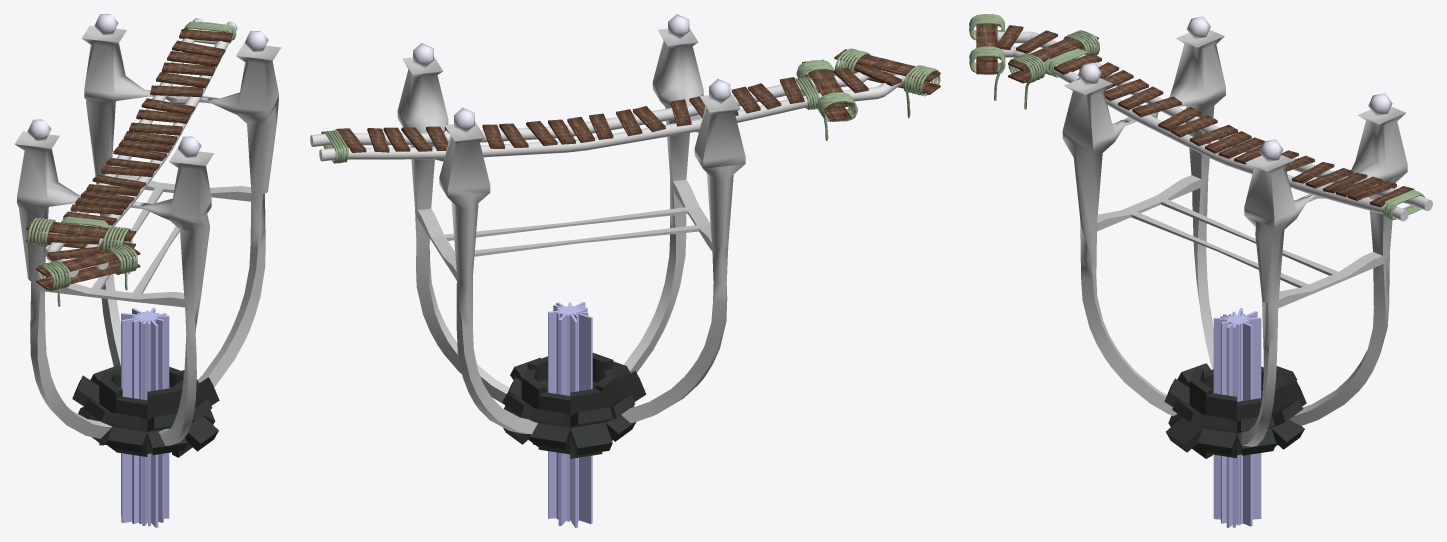
File: 1_bridge_right.fbx
3 renders of one model, left to right at view 1: azimuth 30°, elevation 25°; view 2: azimuth 150°, elevation 25°; view 3: azimuth 270°, elevation 25°, orthographic. The views are drawn at different scales.
Parts seen in each view (by area): view 1: 1_right_base, gravityring, 1_right_La, 1_right_verschlag, 1_right_La_c, 1_right_verschlag_ropes, 1_right_verschlag02, 1_right_verschlag02_ropes, 1_right_La_ropes; view 2: 1_right_base, gravityring, 1_right_La, 1_right_La_c, 1_right_verschlag_ropes, 1_right_verschlag, 1_right_verschlag02_ropes, 1_right_verschlag02, 1_right_La_ropes; view 3: 1_right_base, gravityring, 1_right_La, 1_right_La_c, 1_right_verschlag02_ropes, 1_right_verschlag_ropes, 1_right_La_ropes, 1_right_verschlag02, 1_right_verschlag.
Part boxes in pixels (box(x1,y1,x2,y2)): 1_right_base: box(14, 14, 281, 445); gravityring: box(72, 307, 219, 527); 1_right_La: box(63, 18, 237, 240); 1_right_verschlag: box(36, 245, 140, 289); 1_right_La_c: box(45, 233, 108, 276); 1_right_verschlag_ropes: box(38, 244, 137, 306); 1_right_verschlag02: box(26, 219, 135, 250); 1_right_verschlag02_ropes: box(27, 217, 132, 274); 1_right_La_ropes: box(61, 21, 236, 239); 1_right_base: box(397, 14, 745, 434); gravityring: box(502, 302, 646, 527); 1_right_La: box(310, 77, 821, 161); 1_right_La_c: box(834, 63, 908, 101); 1_right_verschlag_ropes: box(835, 48, 940, 118); 1_right_verschlag: box(834, 49, 940, 94); 1_right_verschlag02_ropes: box(796, 60, 857, 140); 1_right_verschlag02: box(802, 59, 851, 121); 1_right_La_ropes: box(321, 76, 819, 163); 1_right_base: box(1062, 16, 1407, 446); gravityring: box(1164, 308, 1306, 527); 1_right_La: box(1039, 53, 1432, 221); 1_right_La_c: box(996, 25, 1057, 57); 1_right_verschlag02_ropes: box(1008, 30, 1099, 109); 1_right_verschlag_ropes: box(969, 14, 1005, 100); 1_right_La_ropes: box(1044, 48, 1424, 219); 1_right_verschlag02: box(1008, 36, 1098, 83); 1_right_verschlag: box(976, 23, 997, 74).
Size of the model in its own units: 108 by 113 by 108.
Materials: 7 (1 with a texture image).
